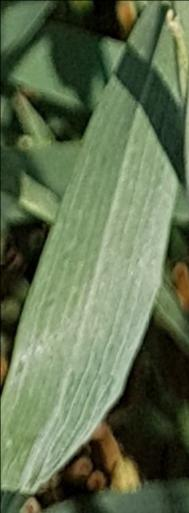Wheat: (79, 16, 183, 207), (37, 221, 157, 370)
